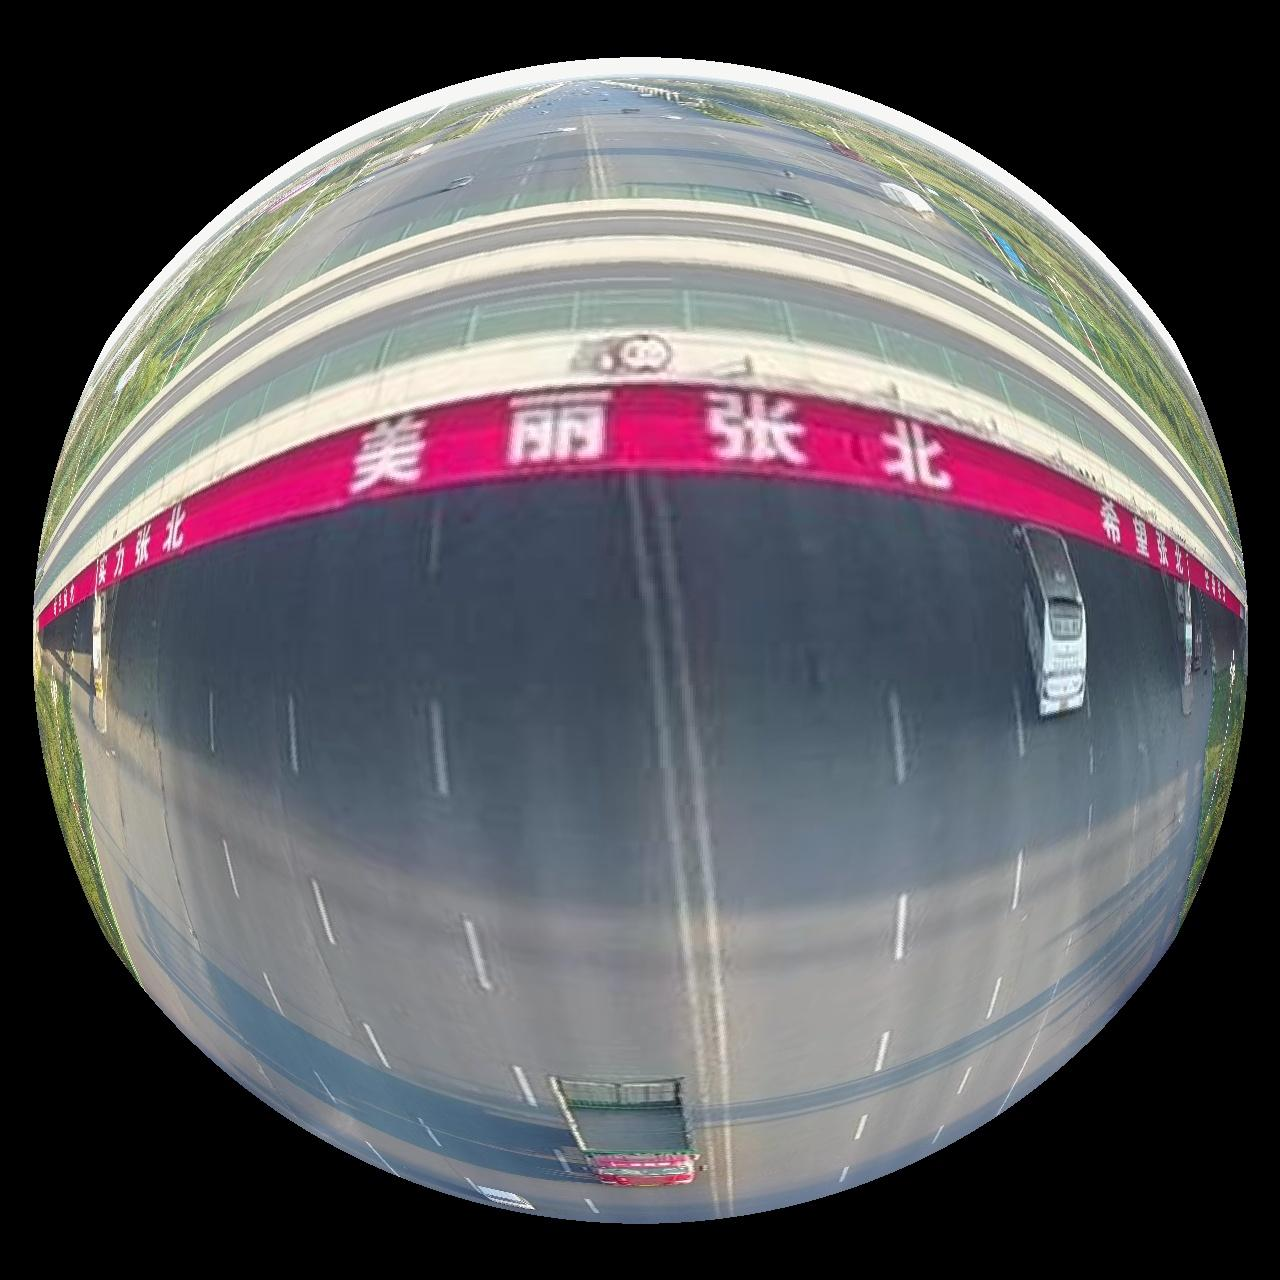cars: (549, 1077, 699, 1189), (1015, 526, 1089, 719)
